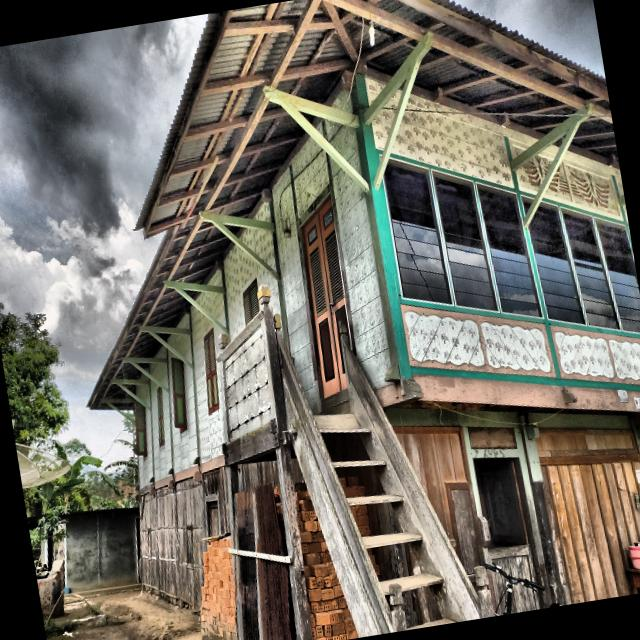door: (473, 457, 542, 616), (303, 198, 351, 398)
ornamen: (224, 325, 273, 441)
roof: (88, 0, 618, 407)
stair: (273, 313, 496, 638)
wall: (382, 93, 557, 377), (384, 408, 552, 616), (271, 138, 393, 411), (527, 151, 640, 385), (529, 413, 640, 605), (139, 466, 230, 615), (190, 305, 226, 463), (223, 244, 281, 342), (167, 349, 198, 474), (150, 380, 173, 482), (238, 228, 277, 272), (138, 407, 153, 489), (196, 292, 226, 327), (150, 362, 168, 389), (136, 385, 150, 407)
window: (384, 161, 451, 304), (433, 172, 497, 311), (477, 185, 542, 317), (522, 199, 584, 324), (561, 211, 619, 329), (596, 222, 640, 332), (204, 327, 220, 415), (171, 357, 187, 434), (243, 277, 260, 327), (135, 402, 147, 458), (157, 386, 165, 447)
